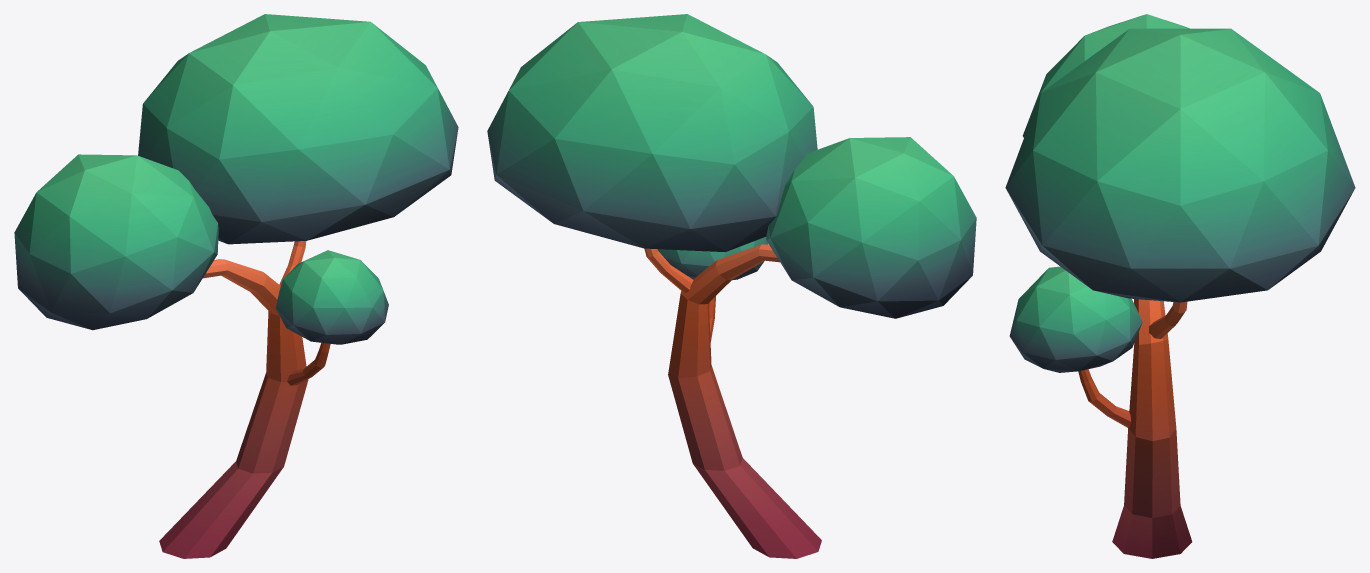
File: Tree_Maple_3.fbx
3 renders of one model, left to right at view 1: azimuth 30°, elevation 25°; view 2: azimuth 150°, elevation 25°; view 3: azimuth 270°, elevation 25°, orthographic. The views are drawn at different scales.
Visible parts, largest first — view 1: Maple Tree 3; view 2: Maple Tree 3; view 3: Maple Tree 3.
Part boxes in pixels (left/top/right/bottom): Maple Tree 3: left=14, top=14, right=458, bottom=558; Maple Tree 3: left=487, top=14, right=976, bottom=558; Maple Tree 3: left=1005, top=14, right=1355, bottom=558.
Size of the model in its own units: 391 by 427 by 243.
